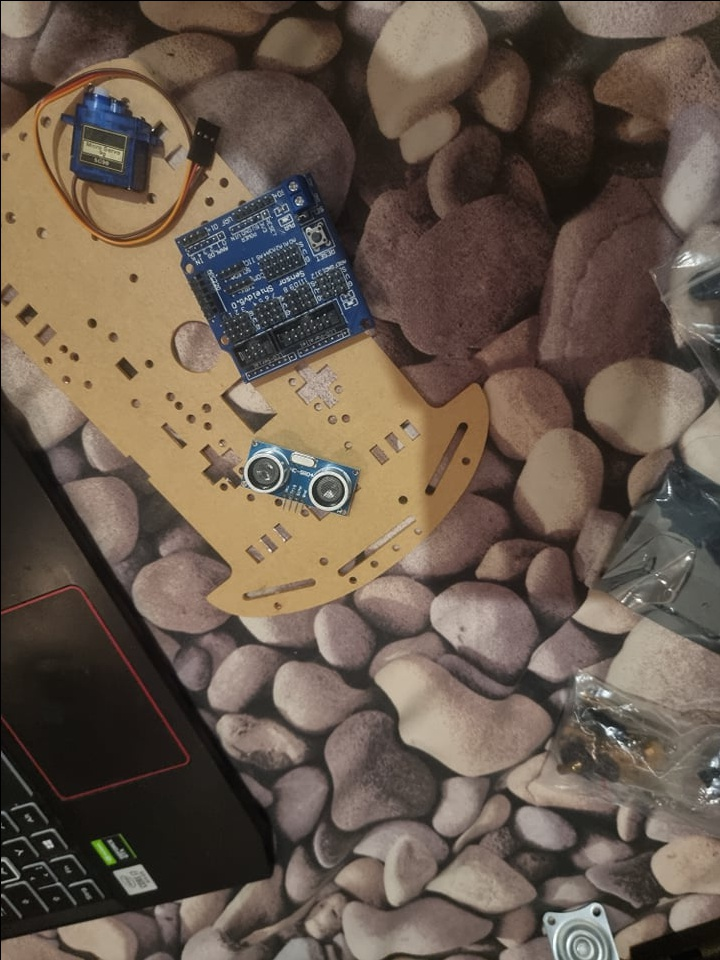5V EXPANSION: (173, 174, 377, 382)
SENSOR: (241, 435, 357, 516)
